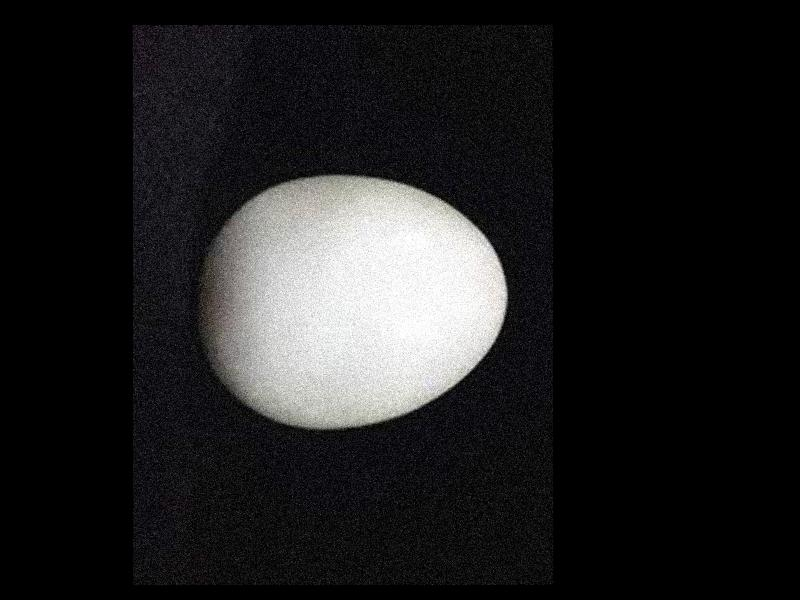Eggs: (193, 176, 505, 425)
